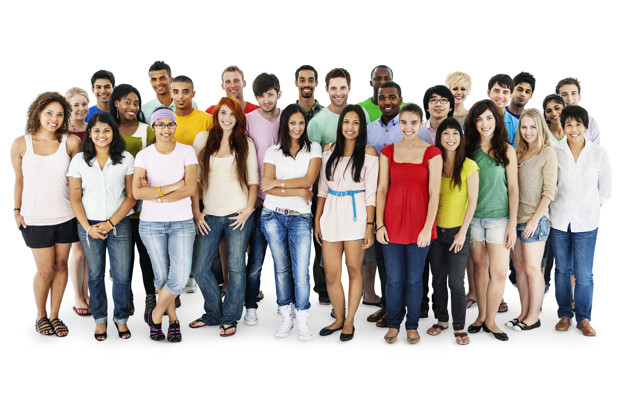person: (183, 93, 266, 223), (317, 108, 378, 246), (379, 98, 444, 226), (462, 96, 521, 220), (16, 91, 81, 200), (268, 96, 326, 213), (76, 113, 138, 215), (512, 106, 562, 230), (427, 115, 480, 227), (141, 108, 197, 212)
